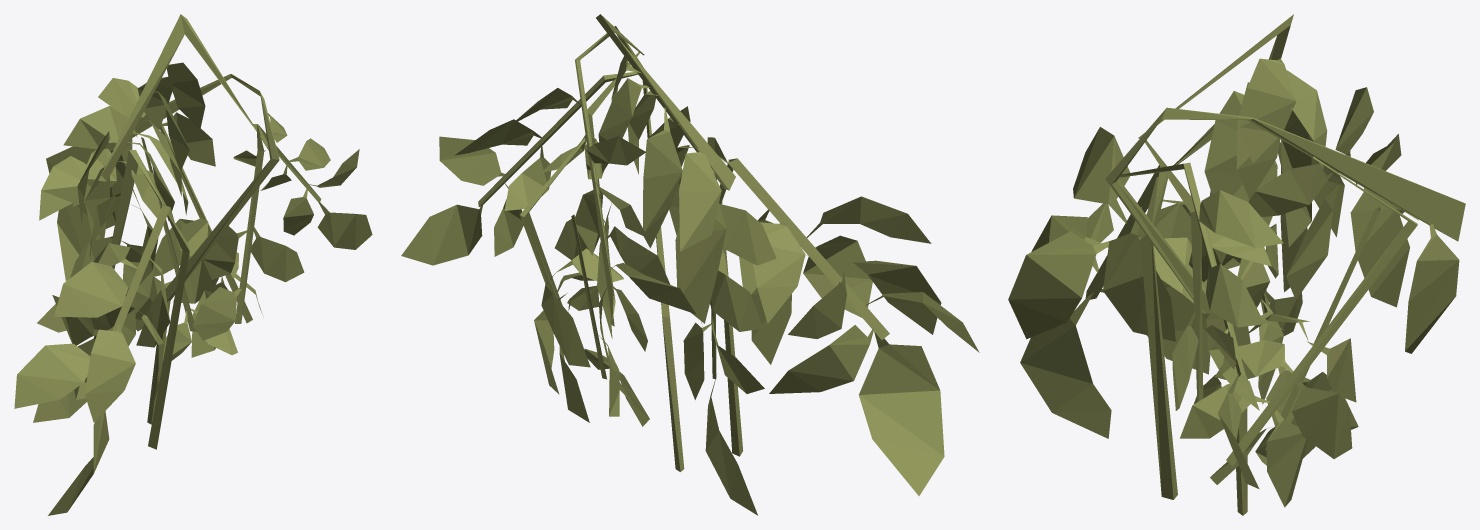
The model's file is Potato_5.fbx.
3 renders of one model, left to right at view 1: azimuth 30°, elevation 25°; view 2: azimuth 150°, elevation 25°; view 3: azimuth 270°, elevation 25°, orthographic. The views are drawn at different scales.
Visible parts, largest first — view 1: Potato_5; view 2: Potato_5; view 3: Potato_5.
Part boxes in pixels (x1,y1,x2,y2): Potato_5: (14,14,372,515); Potato_5: (401,14,979,515); Potato_5: (1008,14,1465,515).
Size of the model in its own units: 46.66 by 42.77 by 31.66.
